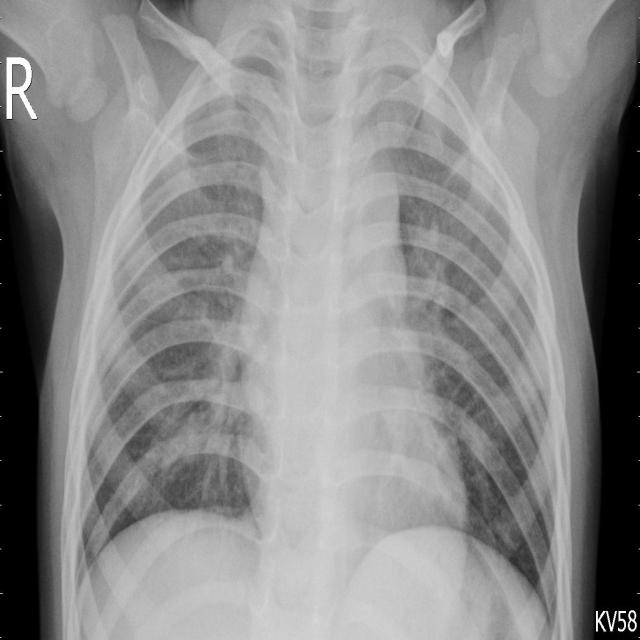no-pneumonia: (83, 99, 268, 563), (393, 111, 557, 615)
